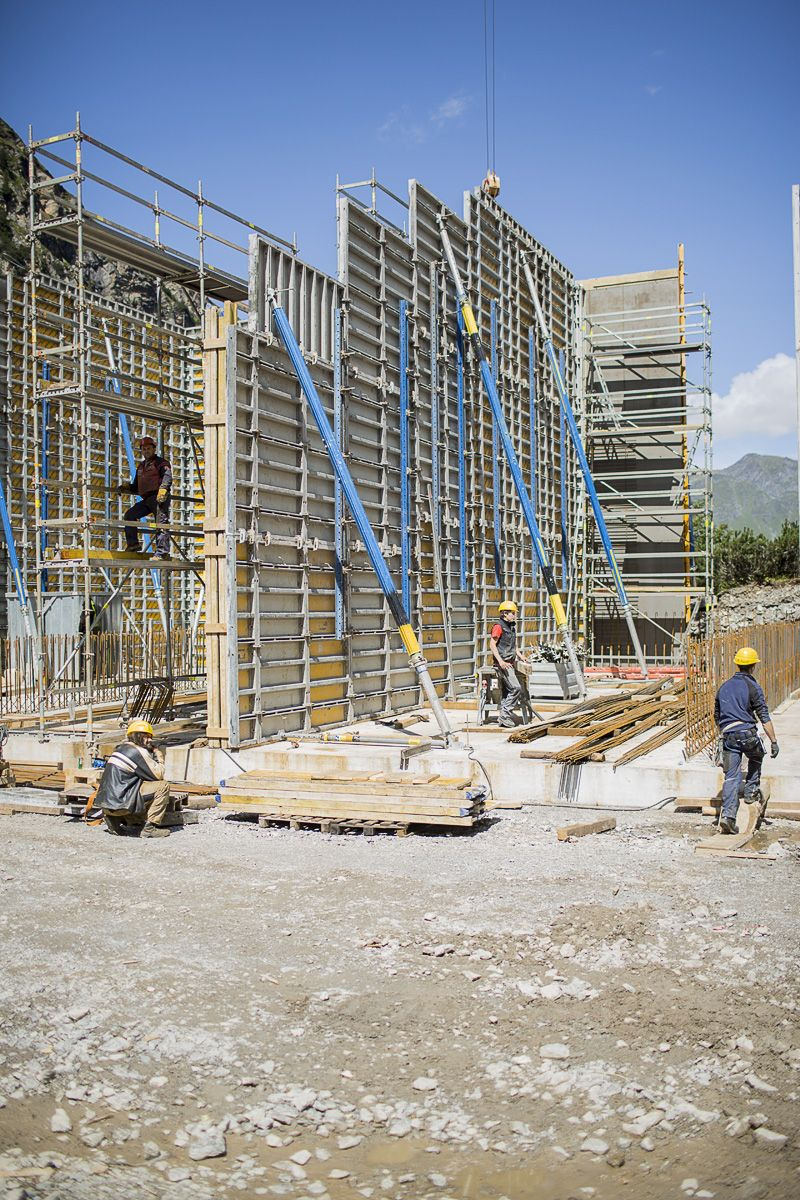hardhat: (491, 596, 543, 639), (117, 423, 162, 469), (719, 639, 766, 676), (122, 711, 153, 745)
no_safety_vest: (105, 730, 155, 806), (710, 672, 757, 749), (484, 627, 540, 679), (127, 458, 173, 490)
person: (679, 618, 780, 827), (94, 698, 195, 832), (113, 396, 195, 561), (467, 594, 552, 749)
